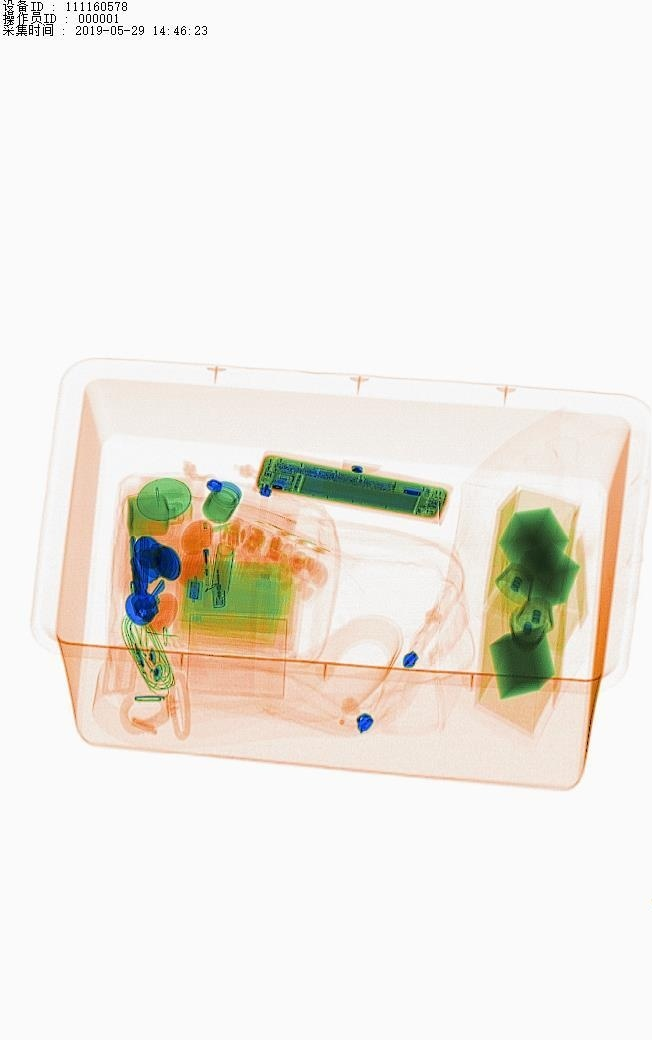NonmetallicFire: (187, 511, 254, 622)
